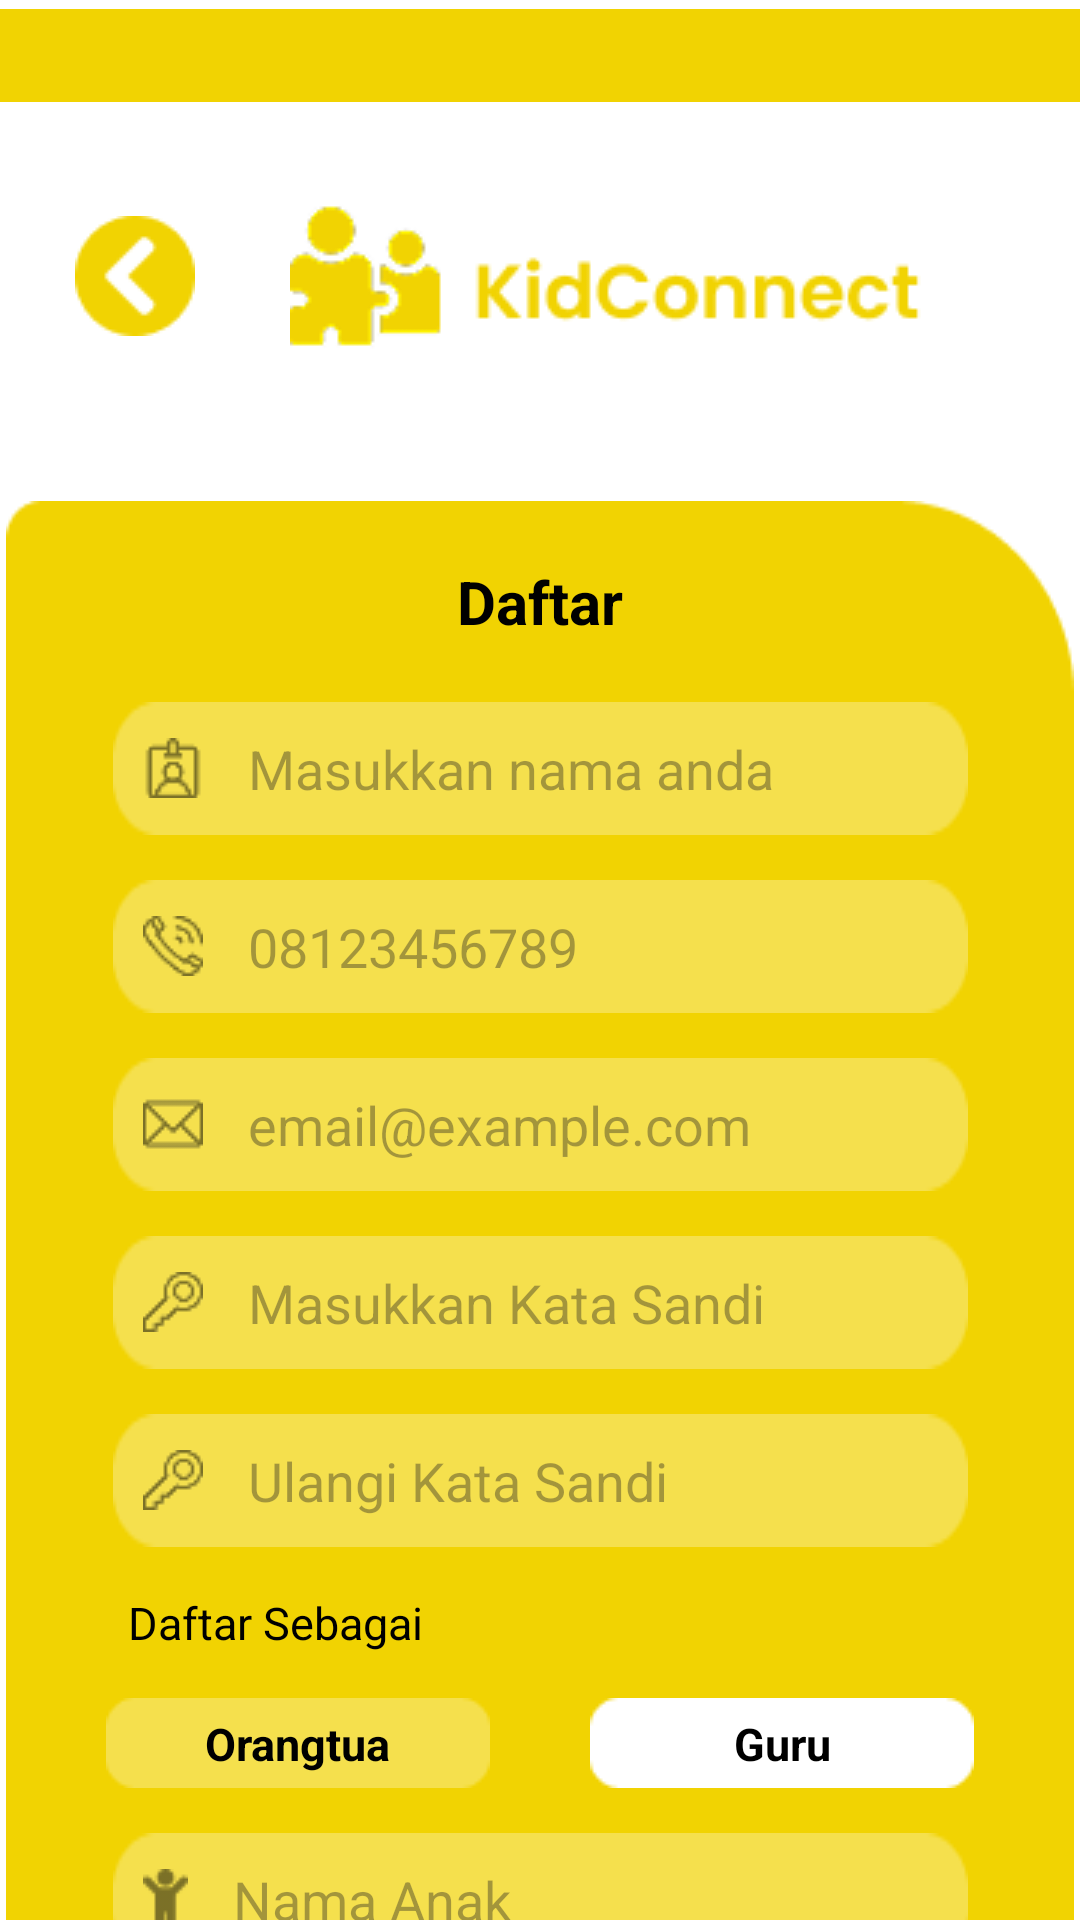

Named icons in this screenshot (1080px x 1920px) and their bounding boxes, (x1, y1, x2, y2):
back: (75, 216, 195, 336)
